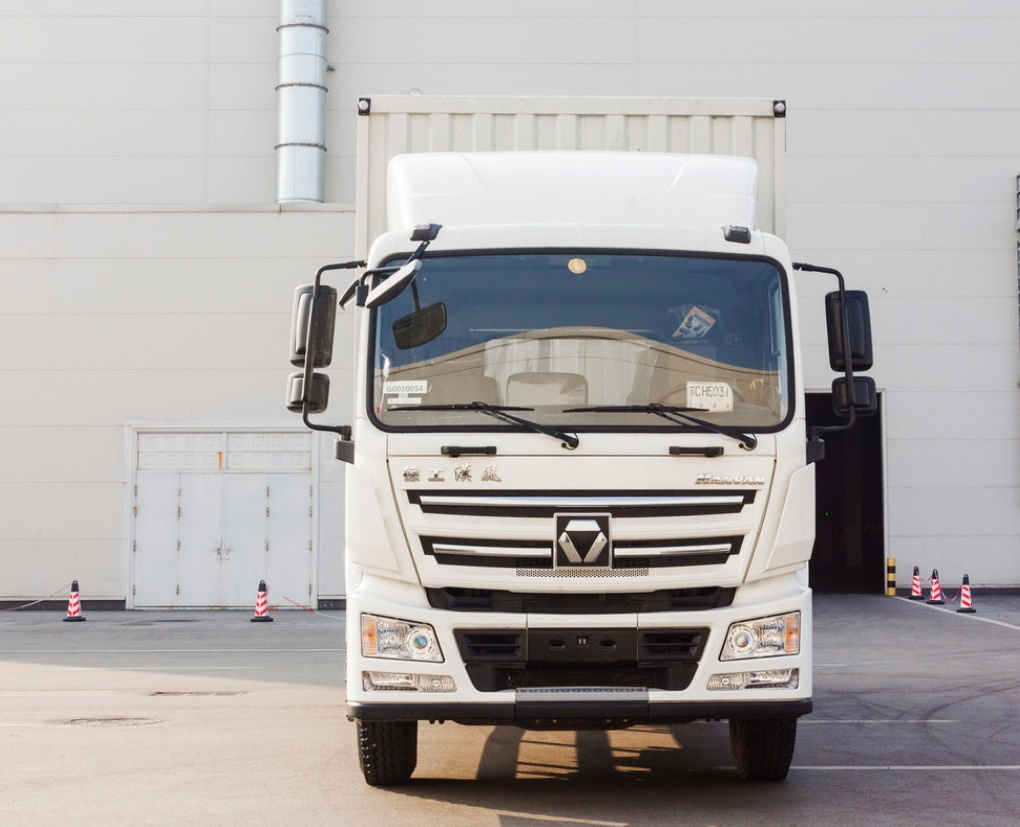truck: (297, 91, 876, 788)
